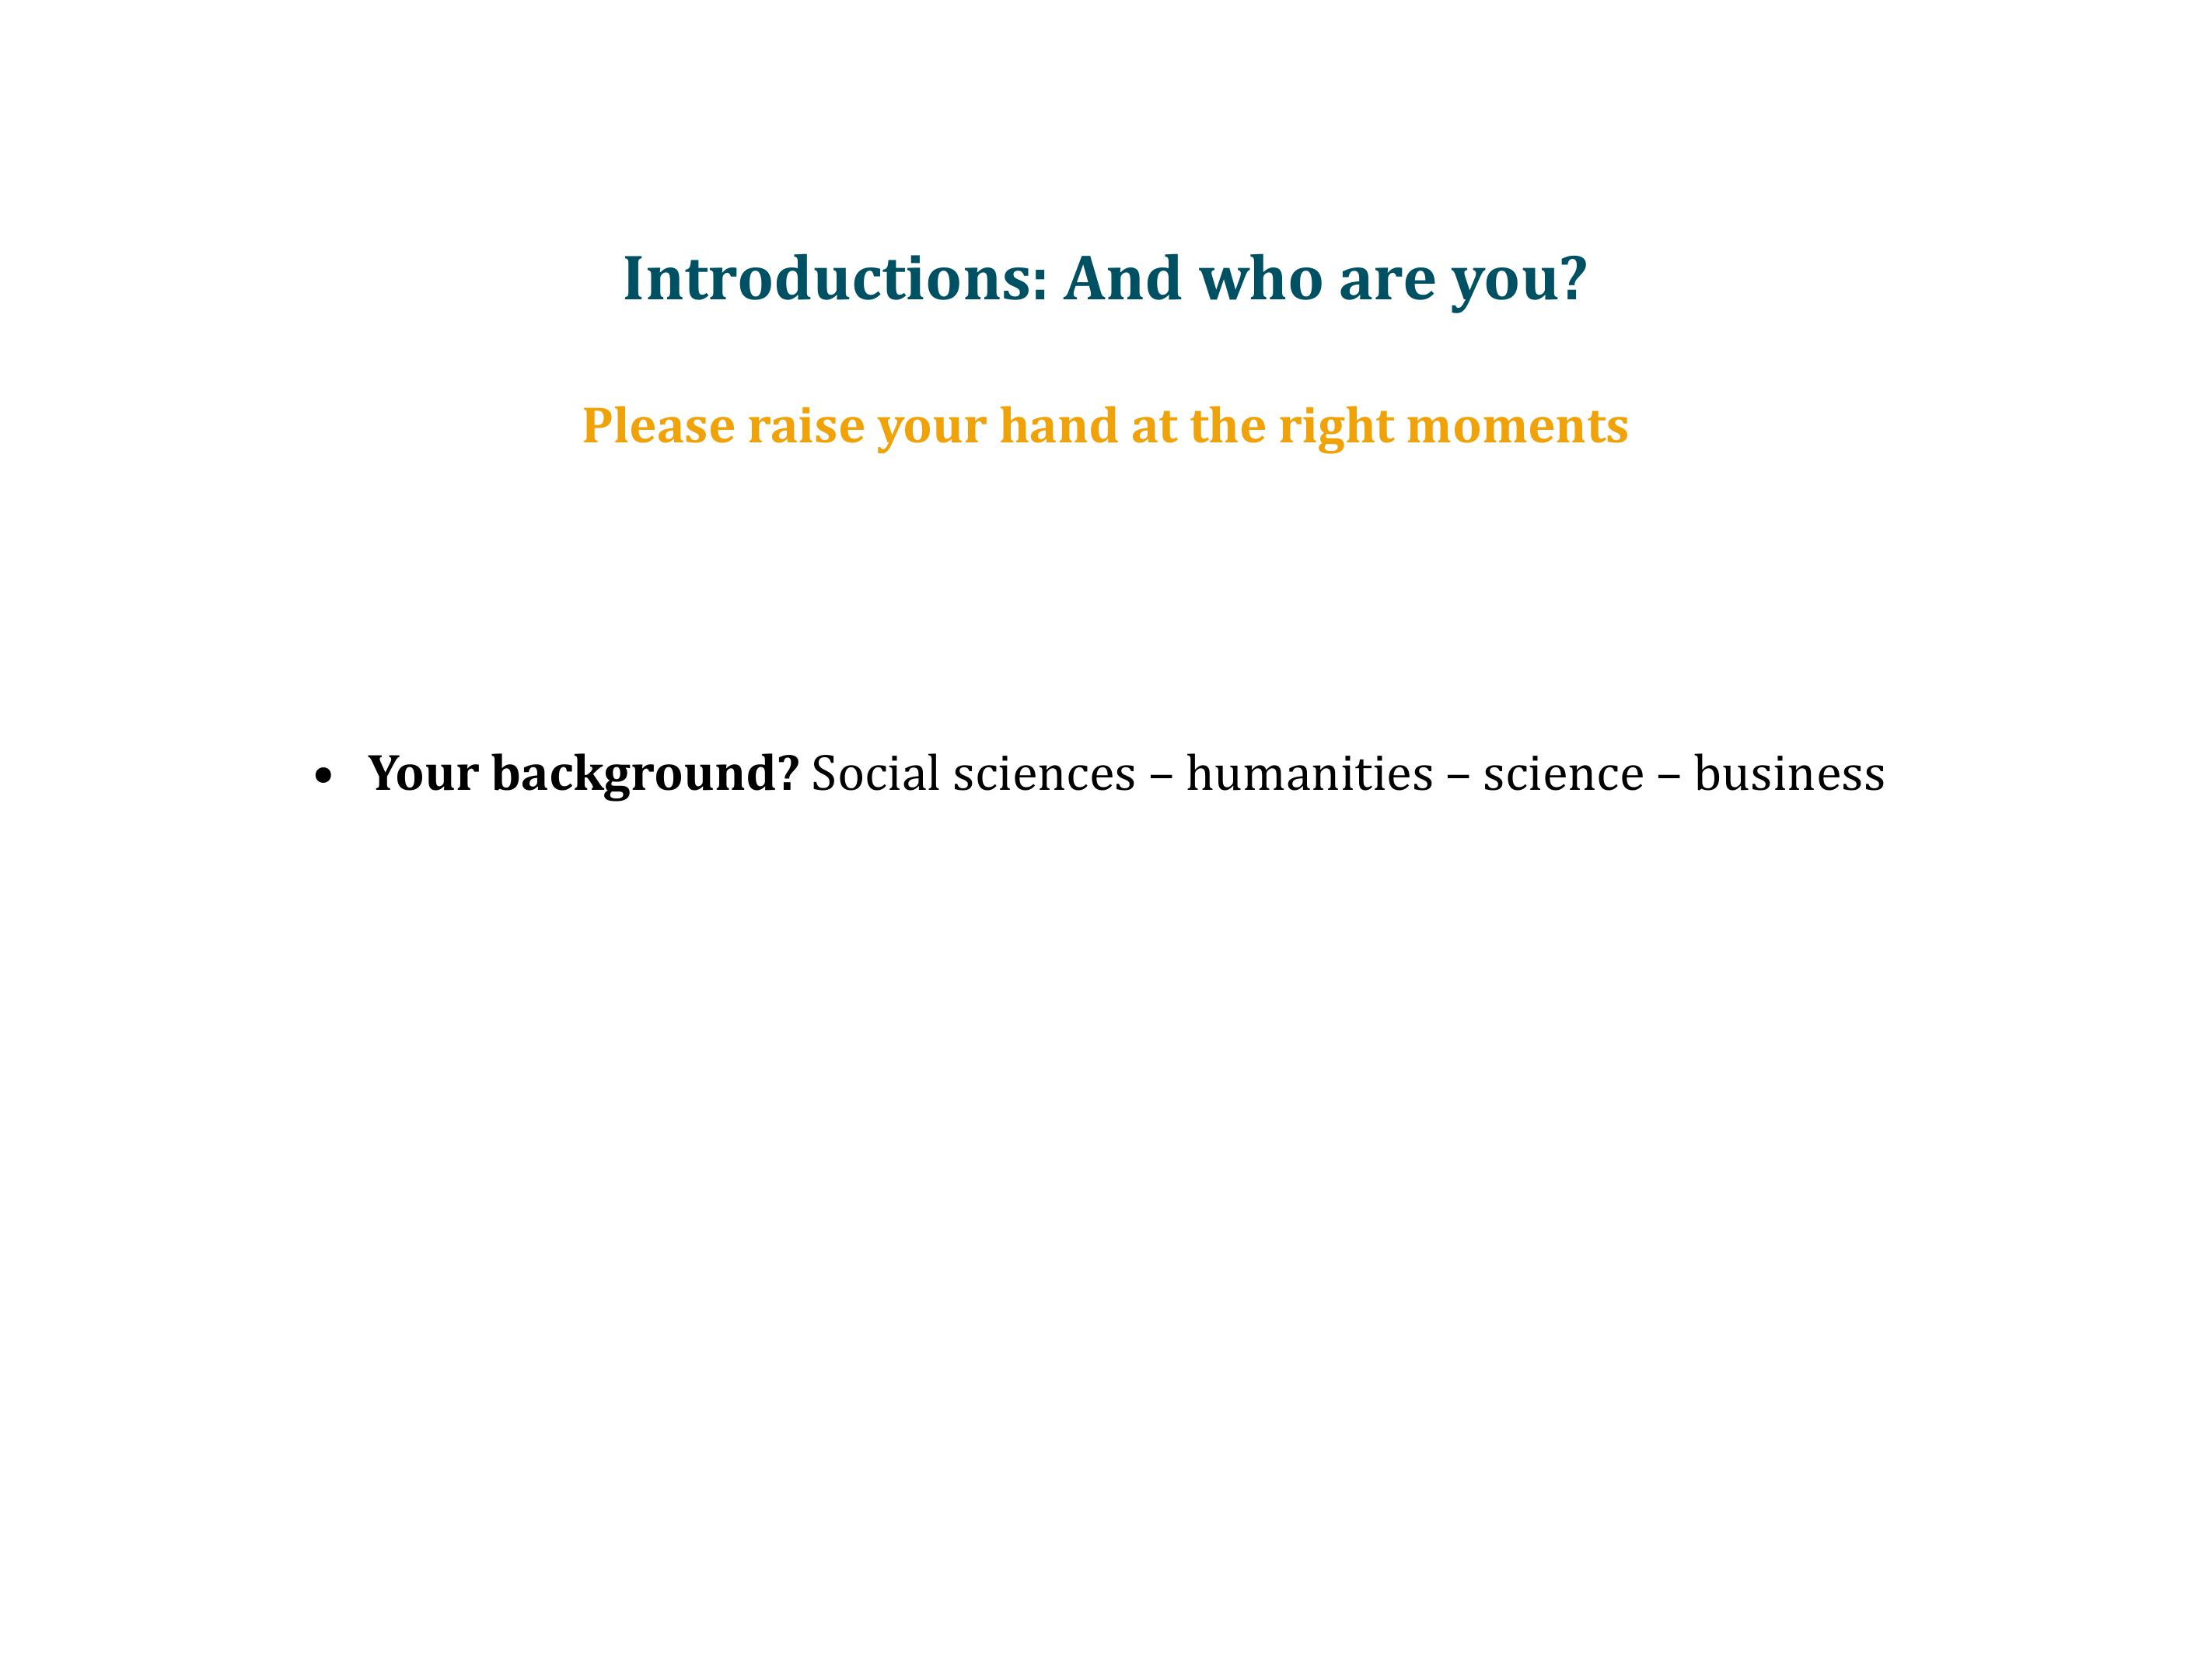Title: (603, 239, 1600, 319)
